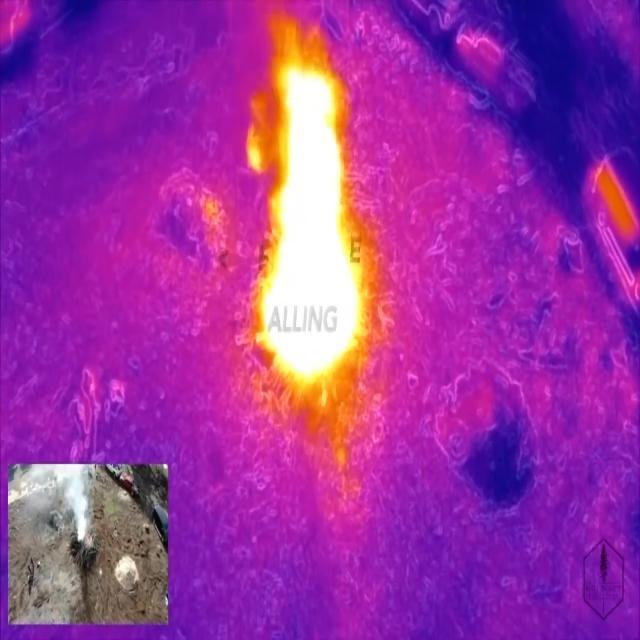fire: (258, 64, 366, 387)
